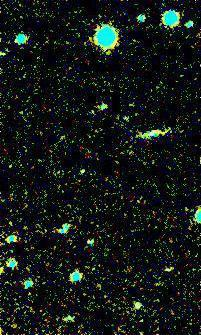star: (167, 191, 197, 221)
